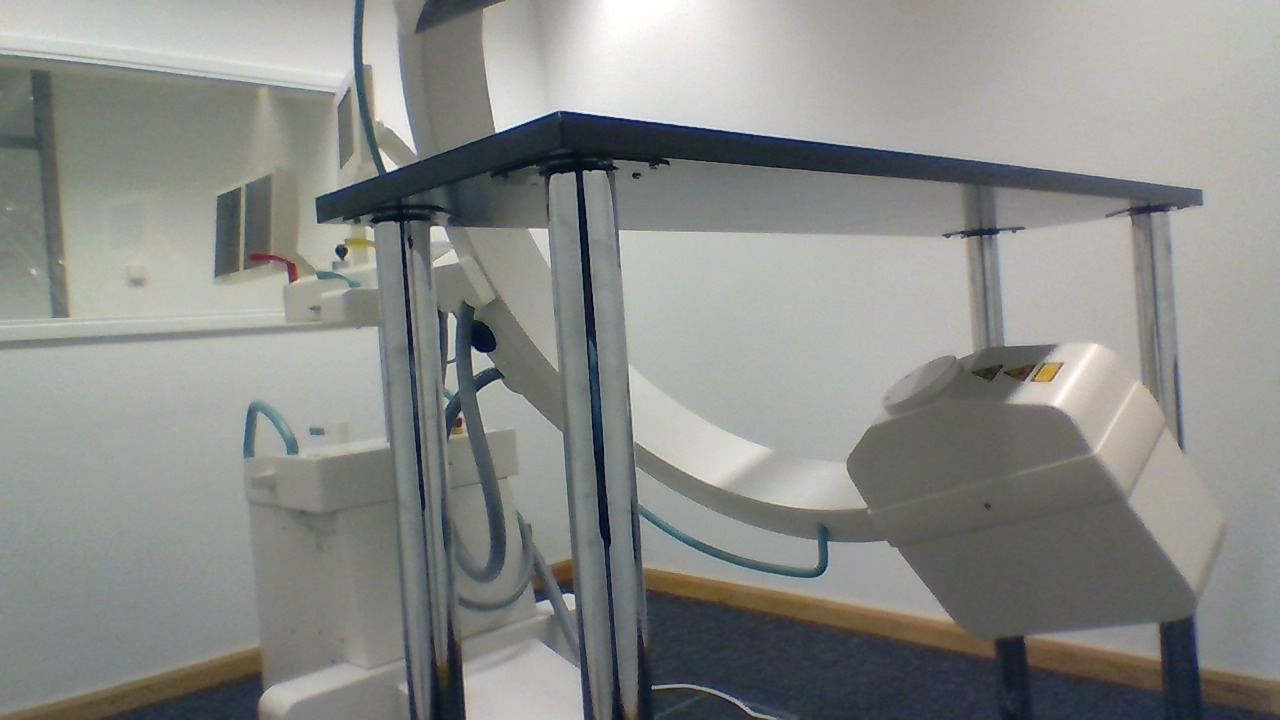carmBACK: (305, 419, 351, 443)
carmDOWN: (844, 340, 1144, 514)
carmLOCK: (461, 318, 500, 354)
carmSCREEN: (331, 63, 374, 195)
